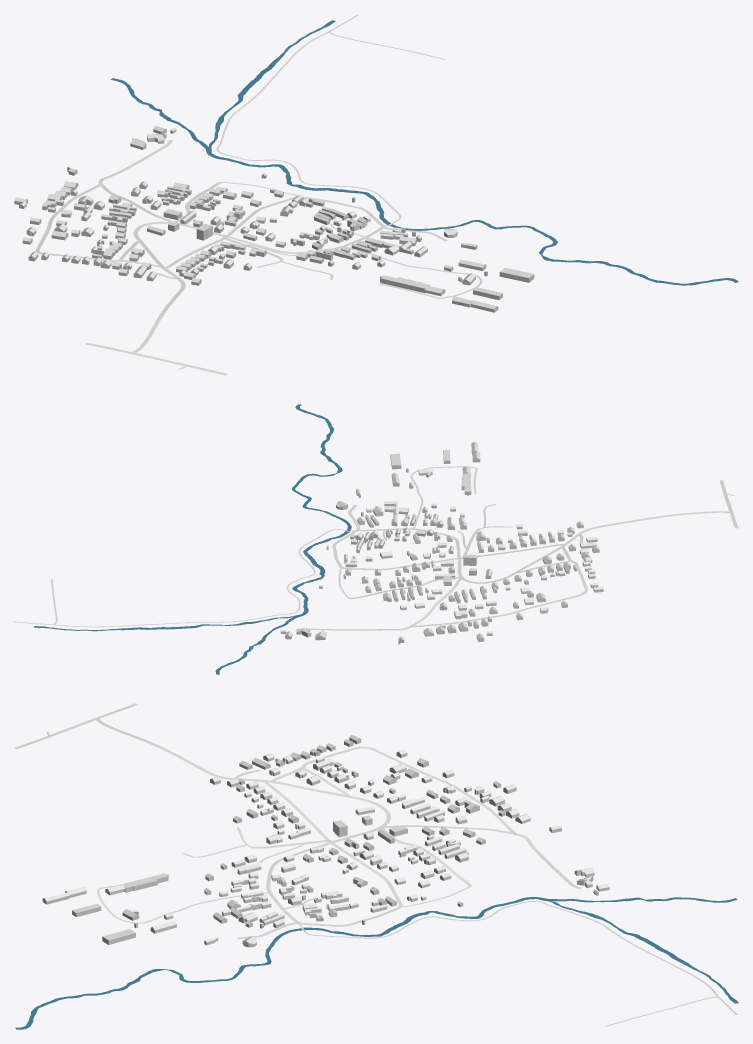
Rendered from objekty.glb.
3 views of the same model, one above another, from view 1: azimuth 30°, elevation 25°; view 2: azimuth 150°, elevation 25°; view 3: azimuth 270°, elevation 25° (orthographic). The views are drawn at different scales.
Parts seen in each view (by area): view 1: Budovy_05_09, Cesty_05_09, Voda_05_09, Okna_Dvere_05_09; view 2: Budovy_05_09, Cesty_05_09, Voda_05_09, Okna_Dvere_05_09; view 3: Budovy_05_09, Cesty_05_09, Voda_05_09, Okna_Dvere_05_09.
Boxes of the visible parts, bbox=[...] form: Budovy_05_09: bbox=[14, 125, 534, 312]; Cesty_05_09: bbox=[35, 14, 482, 375]; Voda_05_09: bbox=[110, 20, 738, 285]; Okna_Dvere_05_09: bbox=[15, 130, 533, 310]; Budovy_05_09: bbox=[280, 441, 603, 644]; Cesty_05_09: bbox=[14, 466, 738, 630]; Voda_05_09: bbox=[34, 404, 351, 674]; Okna_Dvere_05_09: bbox=[281, 453, 602, 642]; Budovy_05_09: bbox=[42, 735, 609, 947]; Cesty_05_09: bbox=[14, 703, 737, 1026]; Voda_05_09: bbox=[15, 897, 738, 1029]; Okna_Dvere_05_09: bbox=[43, 738, 608, 946].
Size of the model in its own units: 952 by 59 by 1007.
